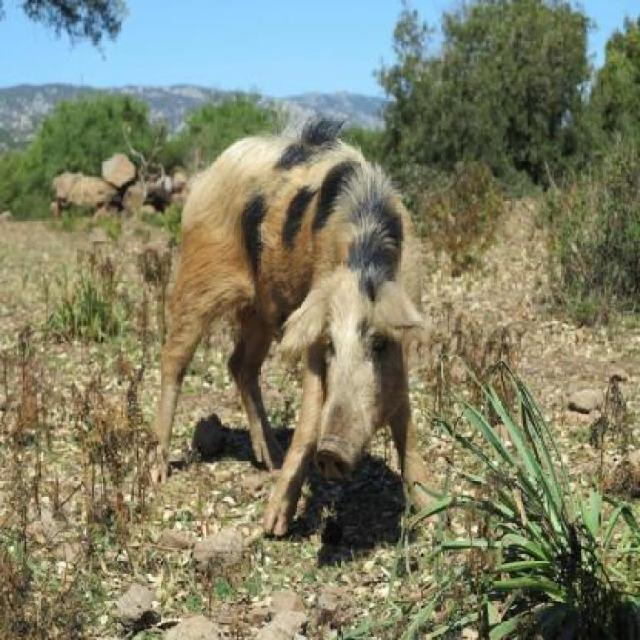wildboar: (142, 113, 426, 552)
